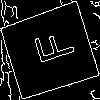F: (24, 25, 76, 70)
